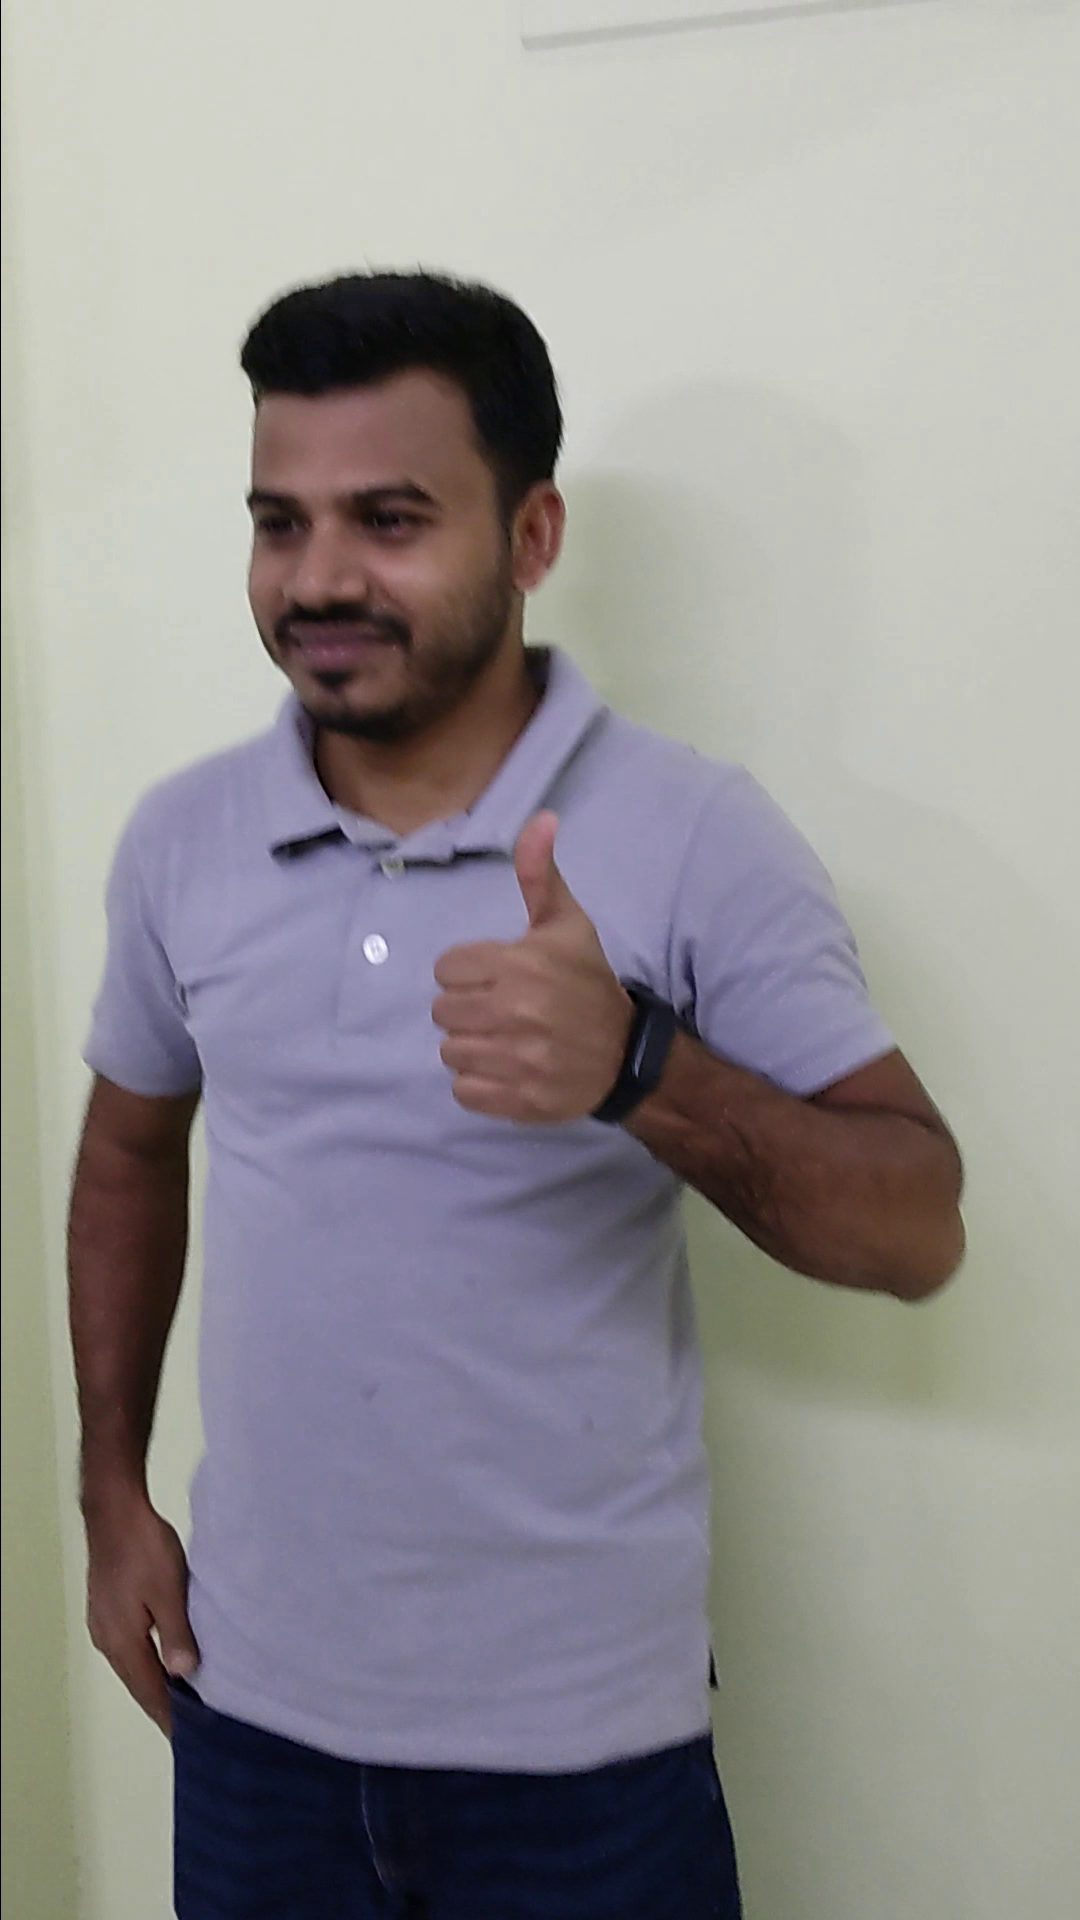Like: (410, 795, 649, 1137)
None: (65, 1462, 208, 1755)
